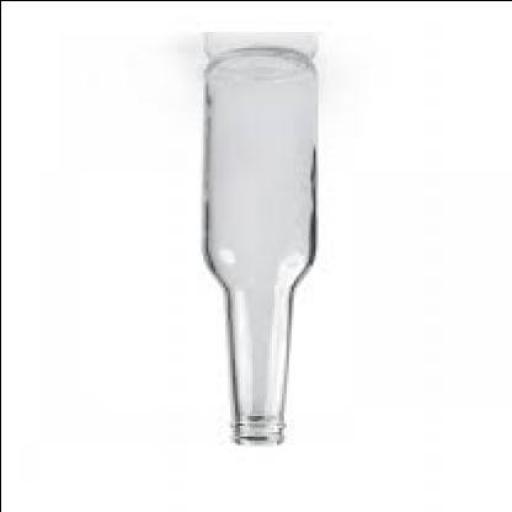glass: (200, 47, 312, 448)
